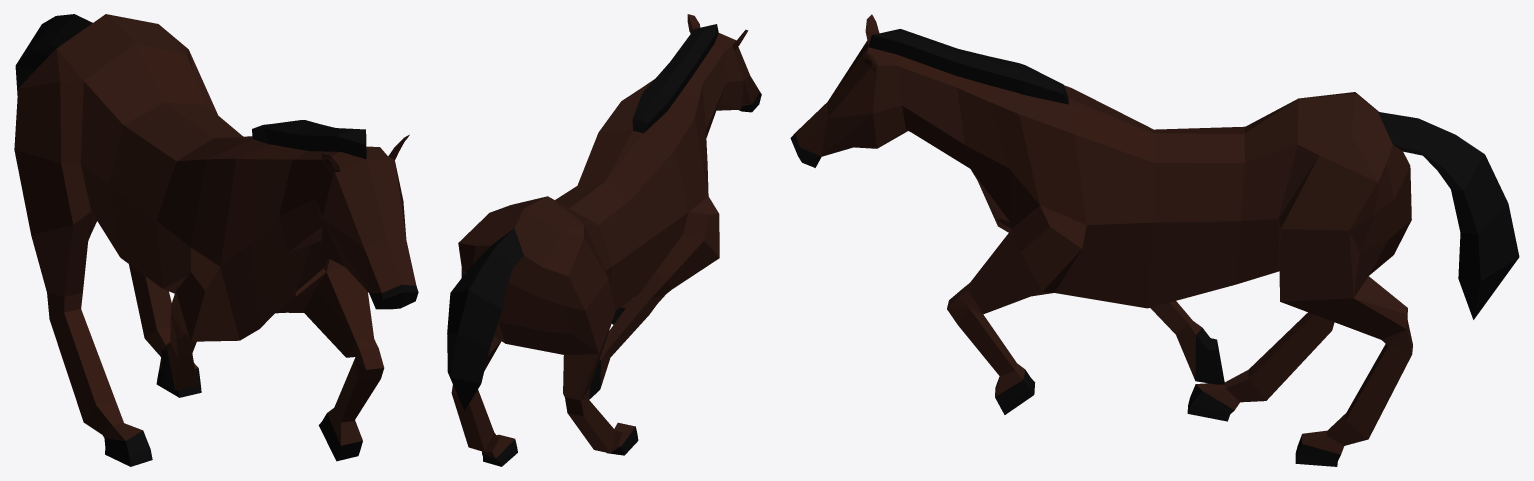
Rendered from Horse_000007.obj.
The picture shows the model from 3 angles, left to right: view 1: azimuth 30°, elevation 25°; view 2: azimuth 150°, elevation 25°; view 3: azimuth 270°, elevation 25°; orthographic projection. The views are drawn at different scales.
Visible parts, largest first — view 1: Horse_Cylinder; view 2: Horse_Cylinder; view 3: Horse_Cylinder.
Boxes of the visible parts, x1,y1,x2,y2 form: Horse_Cylinder: [14, 14, 418, 466]; Horse_Cylinder: [447, 14, 761, 466]; Horse_Cylinder: [790, 14, 1519, 466].
Bounding box in the file's own units: 2.62 × 6.1 × 9.86.
